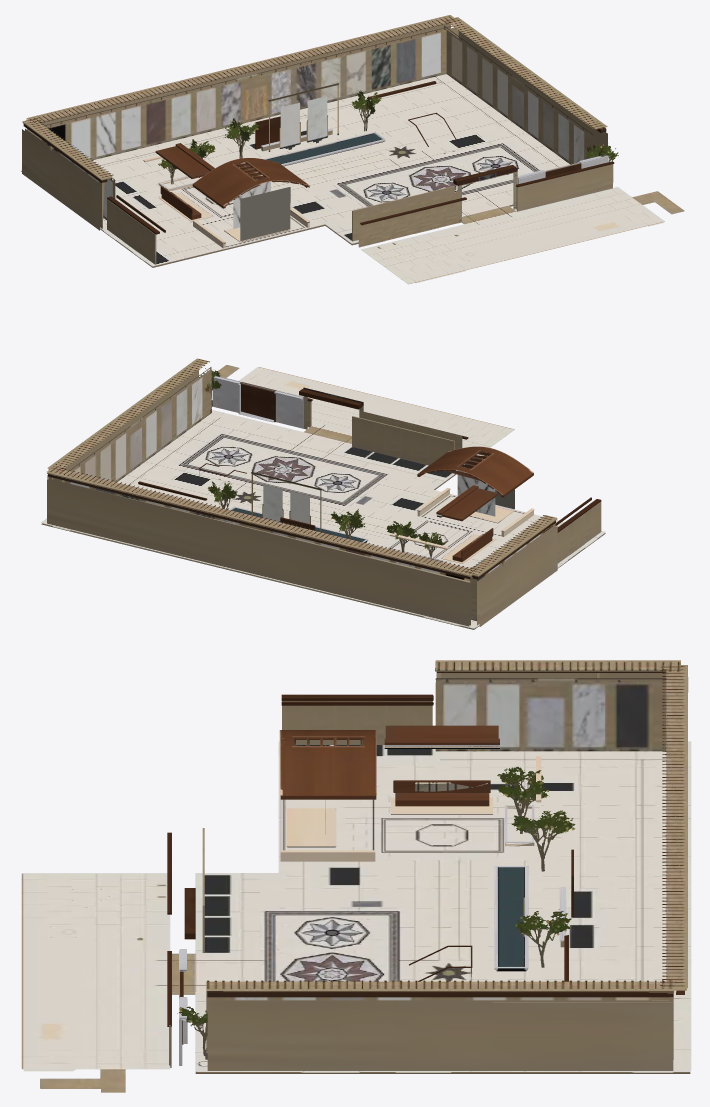
File: courtyard-overview-BgwwAJYA.glb
The picture shows the model from 3 angles, top to bottom: view 1: azimuth 30°, elevation 25°; view 2: azimuth 150°, elevation 25°; view 3: azimuth 270°, elevation 25°; orthographic projection. The views are drawn at different scales.
Bounding box in the file's own units: 39.1 × 5.53 × 31.9.
2 materials, 2 textured.
